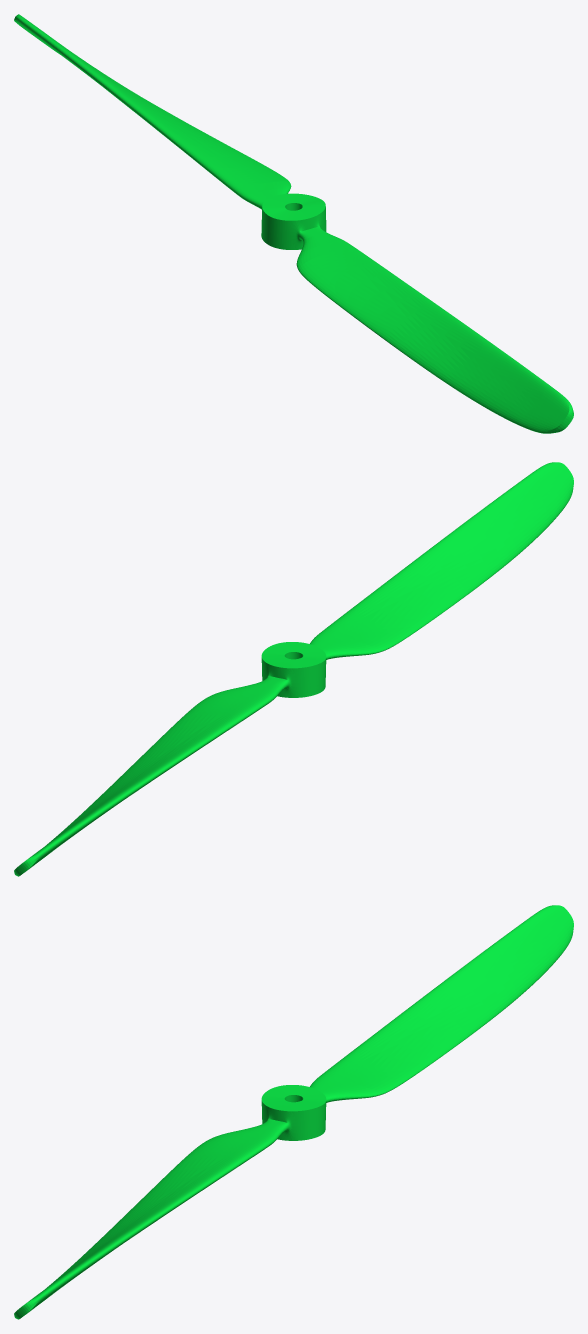
File: propellerCCW.dae
3 views of the same model, one above another, from view 1: azimuth 30°, elevation 25°; view 2: azimuth 150°, elevation 25°; view 3: azimuth 330°, elevation 25° (orthographic).
Visible parts, largest first — view 1: Cylinder; view 2: Cylinder; view 3: Cylinder.
Part boxes in pixels (bbox=[...]): Cylinder: bbox=[14, 14, 573, 433]; Cylinder: bbox=[14, 462, 573, 876]; Cylinder: bbox=[14, 905, 573, 1319].
Size of the model in its own units: 0.1565 by 1.7 by 0.0631.
